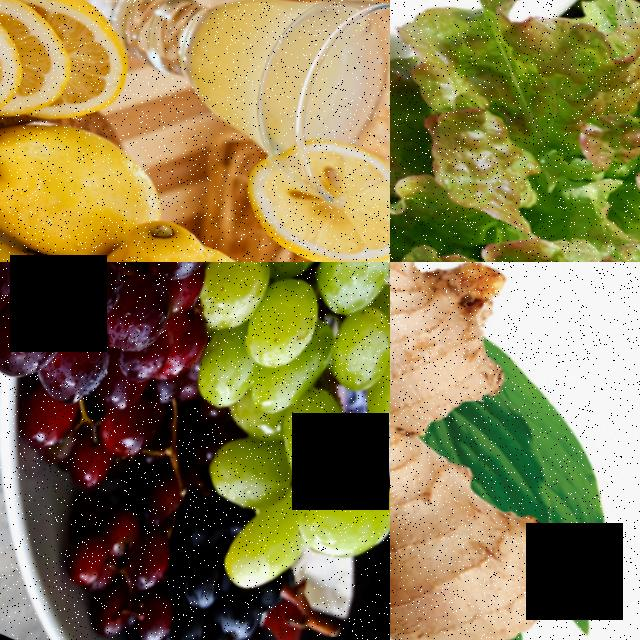ginger: (390, 262, 640, 640)
grapes: (65, 262, 390, 637), (0, 262, 274, 520)
lemon: (0, 89, 152, 262), (258, 138, 390, 262), (64, 200, 325, 262)
lettuce: (390, 0, 640, 262)
